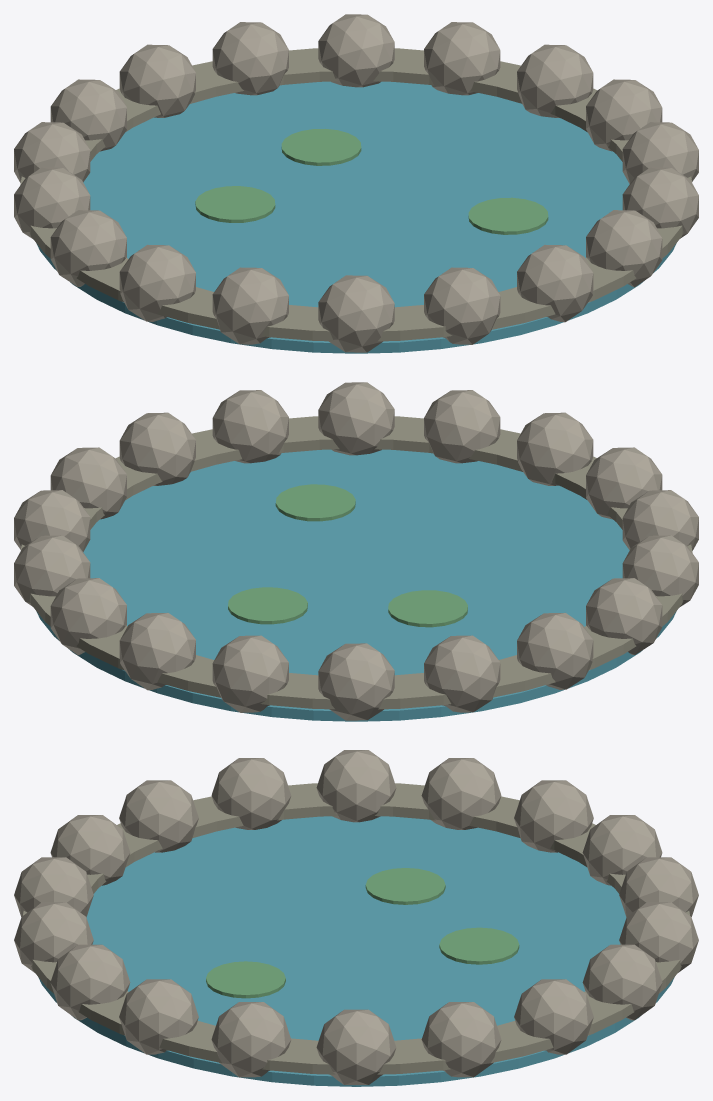
Rendered from pond.glb.
The picture shows the model from 3 angles, top to bottom: view 1: azimuth 30°, elevation 25°; view 2: azimuth 150°, elevation 25°; view 3: azimuth 270°, elevation 25°; orthographic projection.
Parts seen in each view (by area): view 1: world; view 2: world; view 3: world.
Part boxes in pixels (left/top/right/bottom): world: left=14, top=14, right=698, bottom=353; world: left=14, top=382, right=698, bottom=721; world: left=14, top=750, right=698, bottom=1086.
Size of the model in its own units: 1.13 by 0.13 by 1.11.
